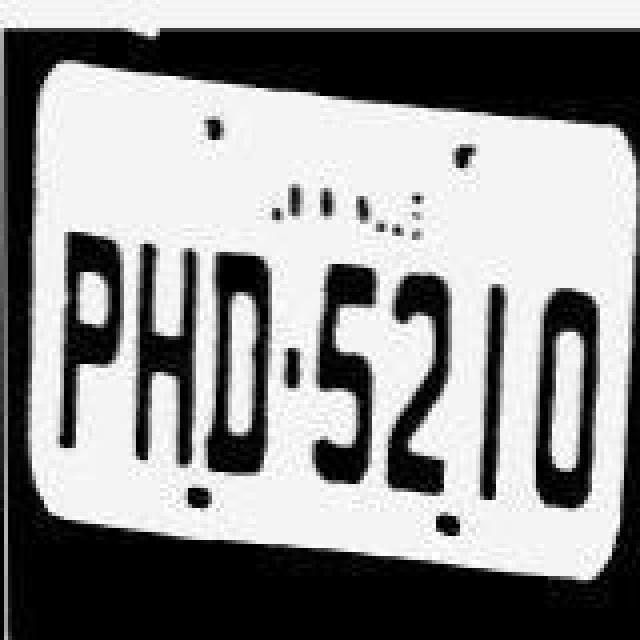1: (464, 250, 516, 502)
2: (378, 258, 458, 502)
5: (306, 238, 386, 506)
D: (204, 222, 280, 498)
H: (128, 228, 204, 500)
O: (520, 264, 604, 520)
P: (54, 208, 134, 480)
